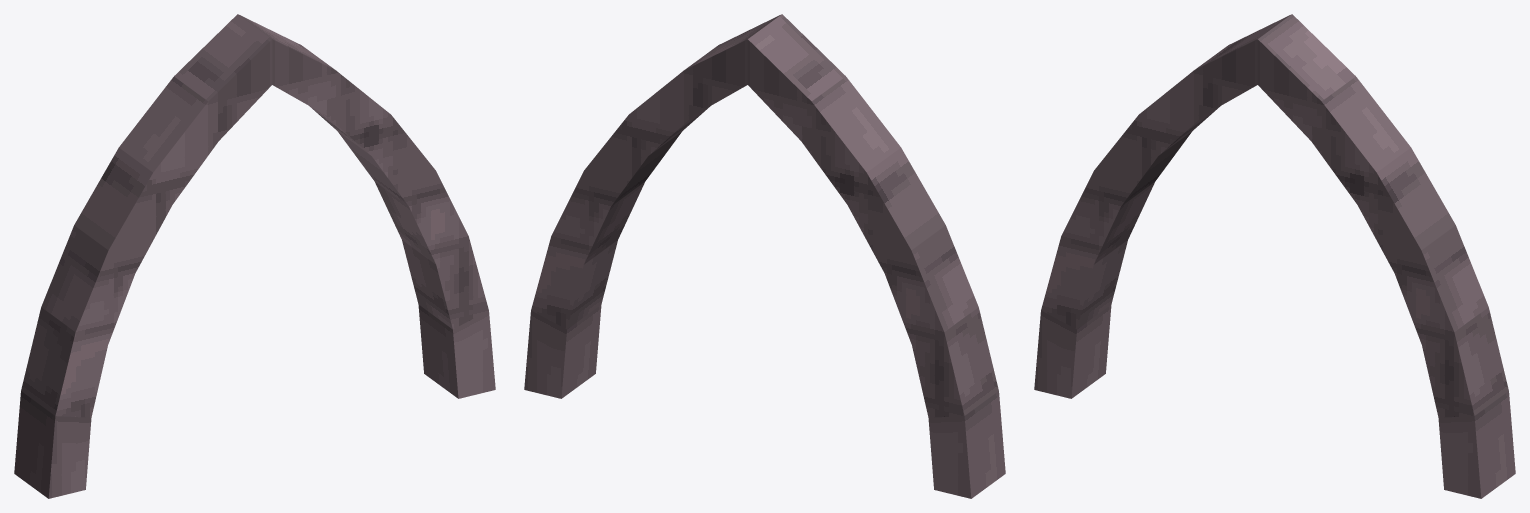
File: fuehrung_boss_c.glb
The picture shows the model from 3 angles, left to right: view 1: azimuth 30°, elevation 25°; view 2: azimuth 150°, elevation 25°; view 3: azimuth 330°, elevation 25°; orthographic projection.
Visible parts, largest first — view 1: fuehrung_boss; view 2: fuehrung_boss; view 3: fuehrung_boss.
Boxes of the visible parts, bbox=[...] form: fuehrung_boss: bbox=[14, 14, 495, 498]; fuehrung_boss: bbox=[524, 14, 1005, 498]; fuehrung_boss: bbox=[1034, 14, 1515, 498].
Bounding box in the file's own units: 1.5 × 1.3 × 0.2.
Materials: 1 (1 with a texture image).
